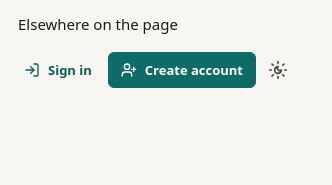
signed out › offers sign-in, registration and the theme, and nothing about an account
Click the button named "Appearance" at (278, 70), box 260,52 -> 296,88
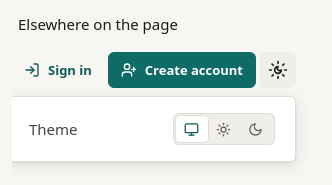
expect the button named "Appearance" is expanded: met, box 260,52 -> 296,88
expect the element named "Colour theme" is shown: met, box 173,113 -> 275,145
